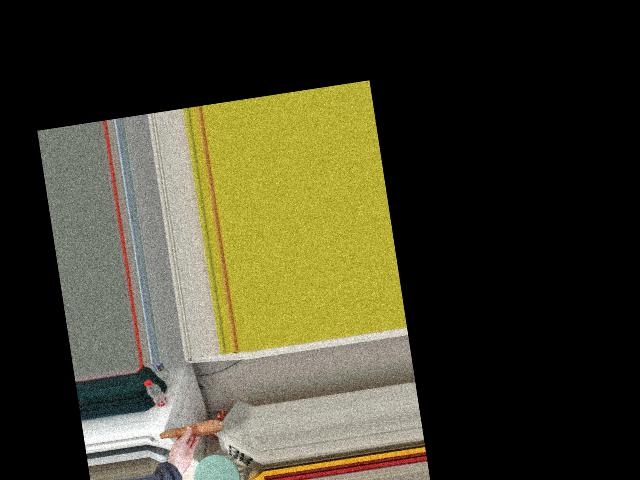sweet_potato: (157, 417, 223, 447)
